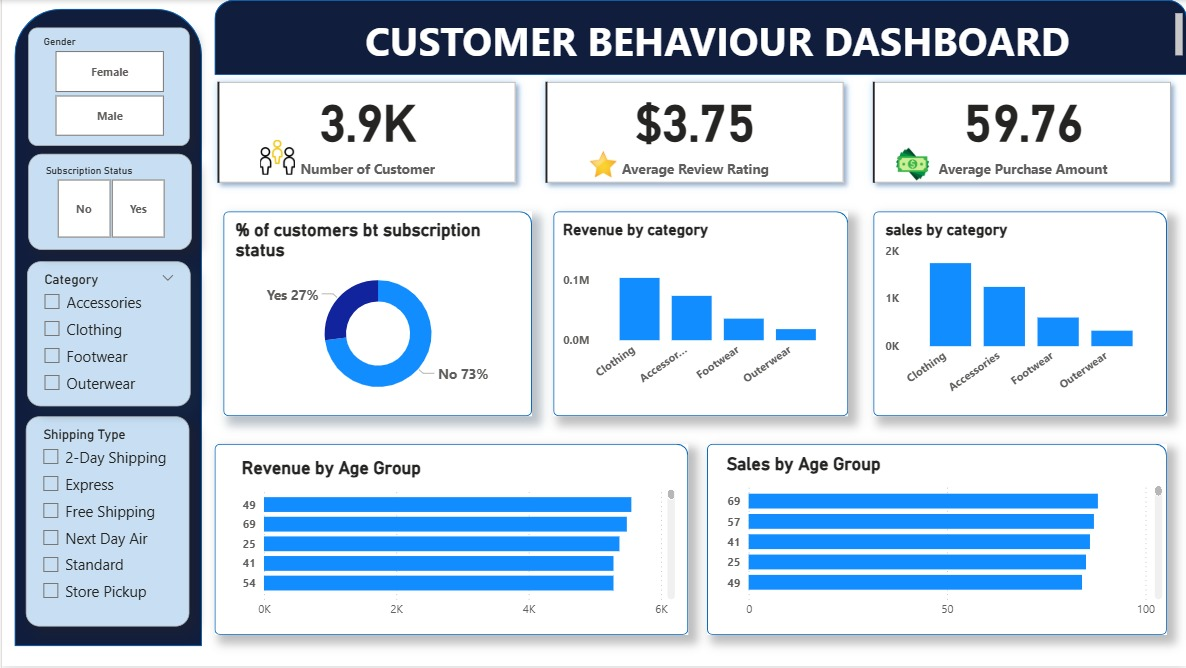

This screenshot's page, from the dashboard's own definition file:
{"tool":"powerbi","page":{"name":"Page 1","canvas":[1280,720],"ordinal":0},"visuals":[{"type":"shape","box":[229.6,0,1050.7,81],"z":0},{"type":"textbox","box":[464.5,215.4,418.7,44.4],"z":1000},{"type":"shape","box":[239,228.2,333.6,221.5],"z":2000},{"type":"cardVisual","fields":{"Data":["public customer.Number of Customer","public customer.Average Review Rating","public customer.Average Purchase Amount"]},"box":[216.1,71.6,1064.2,143.2],"z":3000},{"type":"donutChart","title":"% of customers bt subscription status","fields":{"Category":["public customer.Subscription Status"],"Y":["CountNonNull(public customer.Customer ID)"]},"box":[247.1,237.7,318.7,202.6],"z":4000},{"type":"shape","box":[941.3,228.2,317.4,221.5],"z":5000},{"type":"shape","box":[595.6,228.2,318.7,221.5],"z":6000},{"type":"clusteredColumnChart","title":"Revenue by category","fields":{"Y":["Sum(public customer.Purchase Amount (USD))"],"Category":["public customer.Category"]},"box":[601,237.7,307.9,189.1],"z":7000},{"type":"clusteredColumnChart","title":"sales by category","fields":{"Category":["public customer.Category"],"Y":["CountNonNull(public customer.Customer ID)"]},"box":[949.4,237.7,302.5,198.5],"z":8000},{"type":"shape","box":[229.6,479.4,511.8,206.6],"z":9000},{"type":"clusteredBarChart","title":"Revenue by Age Group","fields":{"Y":["Sum(public customer.Purchase Amount (USD))"],"Category":["public customer.Age"]},"box":[239,490.2,492.9,186.4],"z":10000},{"type":"shape","box":[761.7,479.4,497,206.6],"z":11000},{"type":"clusteredBarChart","title":"Sales by Age Group","fields":{"Category":["public customer.Age"],"Y":["CountNonNull(public customer.Customer ID)"]},"box":[777.9,490.2,480.8,186.4],"z":12000},{"type":"textbox","box":[387.6,9.5,892.7,60.8],"z":13000},{"type":"shape","box":[13.5,9.5,202.6,688.8],"z":14000},{"type":"slicer","fields":{"Values":["public customer.Gender"]},"box":[28.4,29.7,174.2,128.3],"z":15000},{"type":"slicer","fields":{"Values":["public customer.Shipping Type"]},"box":[25.7,449.7,176.9,226.9],"z":16000},{"type":"slicer","fields":{"Values":["public customer.Category"]},"box":[27,282.3,176.9,156.7],"z":17000},{"type":"slicer","fields":{"Values":["public customer.Subscription Status"]},"box":[28.4,166.1,176.9,104],"z":18000},{"type":"image","box":[625.3,158,48.6,39.2],"z":19000},{"type":"image","box":[274.2,143.2,47.3,54],"z":19001},{"type":"image","box":[957.5,143.2,52.7,67.5],"z":19002}]}

Visuals, with their boxes in screenshot pixels (x1, y1, x2, y2), scaled from the page's 1280x720 canvas onto the 1186x668 screenshot:
shape: <bbox>213, 0, 1185, 75</bbox>
textbox: <bbox>430, 200, 818, 241</bbox>
shape: <bbox>221, 212, 531, 417</bbox>
cardVisual - public customer.Number of Customer x public customer.Average Review Rating: <bbox>200, 66, 1185, 199</bbox>
"% of customers bt subscription status" donutChart: <bbox>229, 221, 524, 409</bbox>
shape: <bbox>872, 212, 1166, 417</bbox>
shape: <bbox>552, 212, 847, 417</bbox>
"Revenue by category" clusteredColumnChart: <bbox>557, 221, 842, 396</bbox>
"sales by category" clusteredColumnChart: <bbox>880, 221, 1160, 405</bbox>
shape: <bbox>213, 445, 687, 636</bbox>
"Revenue by Age Group" clusteredBarChart: <bbox>221, 455, 678, 628</bbox>
shape: <bbox>706, 445, 1166, 636</bbox>
"Sales by Age Group" clusteredBarChart: <bbox>721, 455, 1166, 628</bbox>
textbox: <bbox>359, 9, 1185, 65</bbox>
shape: <bbox>13, 9, 200, 648</bbox>
slicer - public customer.Gender: <bbox>26, 28, 188, 147</bbox>
slicer - public customer.Shipping Type: <bbox>24, 417, 188, 628</bbox>
slicer - public customer.Category: <bbox>25, 262, 189, 407</bbox>
slicer - public customer.Subscription Status: <bbox>26, 154, 190, 251</bbox>
image: <bbox>579, 147, 624, 183</bbox>
image: <bbox>254, 133, 298, 183</bbox>
image: <bbox>887, 133, 936, 195</bbox>
